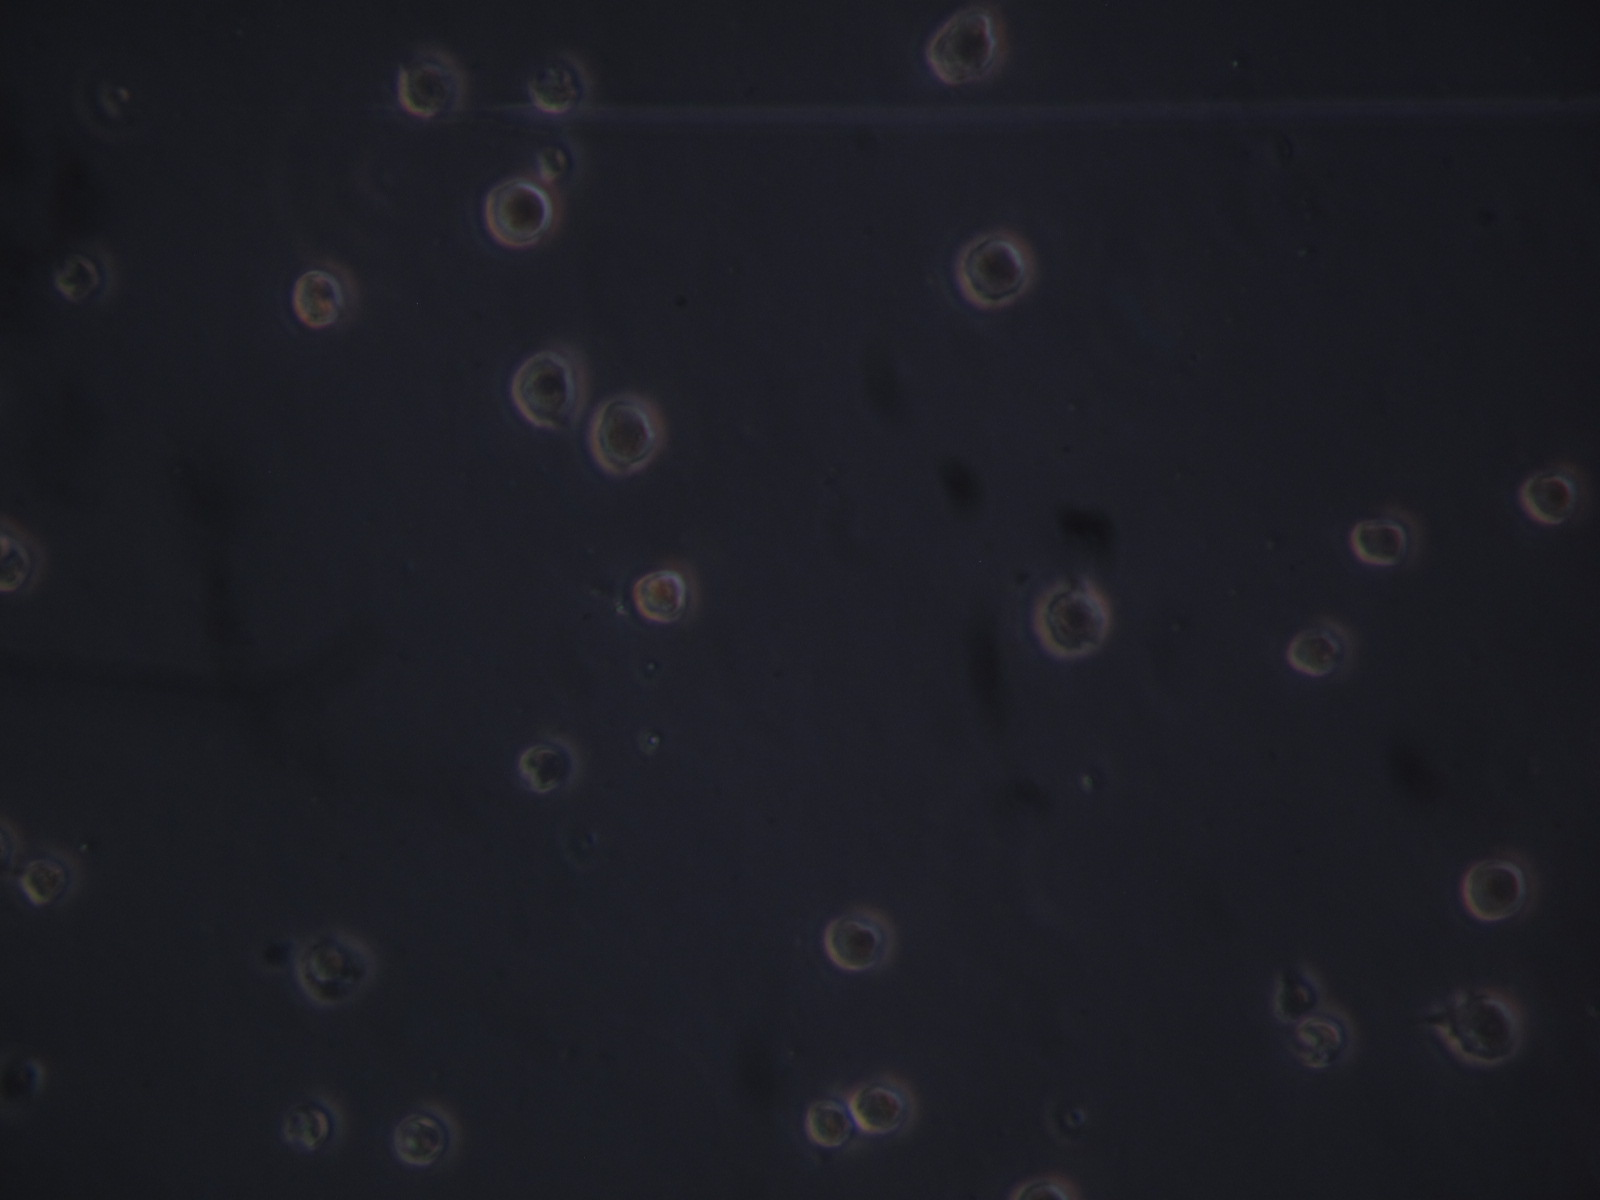hemo: (590, 389, 664, 475), (294, 932, 375, 1007), (510, 350, 588, 429), (1464, 845, 1540, 923), (955, 233, 1031, 309), (930, 9, 1004, 81), (399, 44, 470, 117), (1445, 997, 1519, 1063), (825, 906, 901, 969), (486, 182, 554, 250), (392, 1100, 461, 1167), (1041, 587, 1107, 655), (296, 257, 358, 329), (850, 1076, 922, 1137), (1352, 505, 1421, 567), (518, 730, 583, 794), (58, 239, 125, 303), (528, 49, 591, 115), (632, 563, 700, 624), (1, 513, 47, 599), (21, 843, 81, 909), (1286, 619, 1353, 676), (278, 1095, 343, 1152), (1298, 1005, 1356, 1065), (804, 1095, 860, 1155), (1519, 473, 1575, 524), (1272, 972, 1323, 1026)
